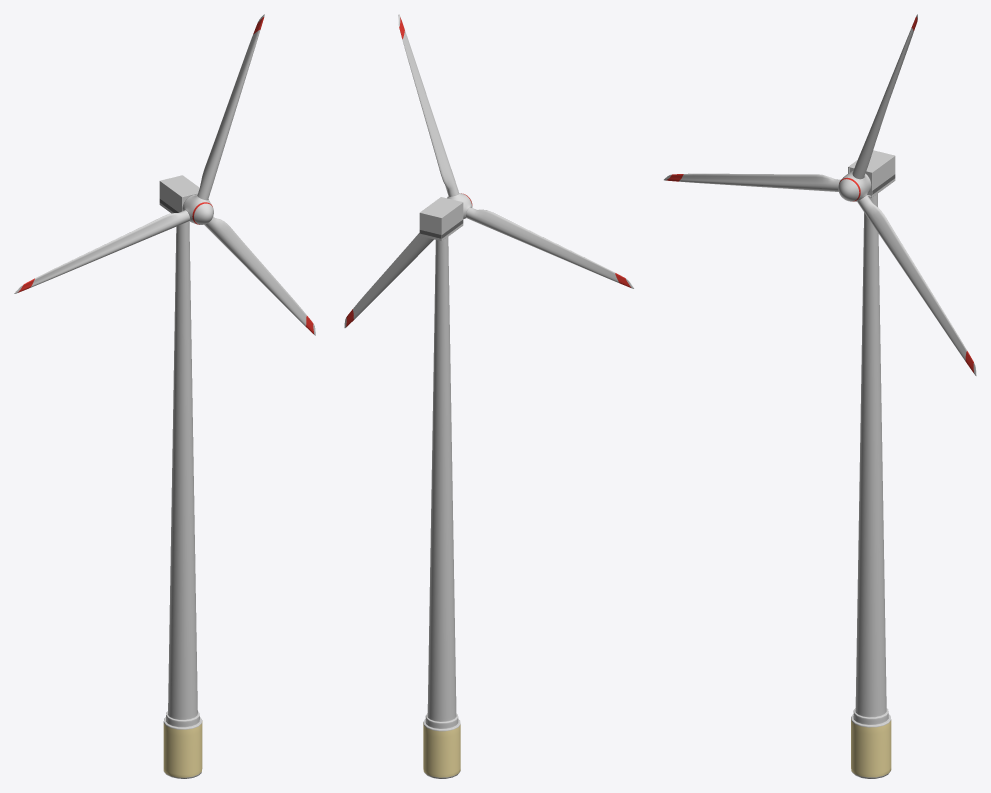
File: wind_turbine.dae
3 renders of one model, left to right at view 1: azimuth 30°, elevation 25°; view 2: azimuth 150°, elevation 25°; view 3: azimuth 330°, elevation 25°, orthographic. The views are drawn at different scales.
Visible parts, largest first — view 1: Cylinder.003, Cylinder.002_Cylinder, Cylinder.001_Cylinder, Cylinder, Cube_Cube.002, Roundcube; view 2: Cylinder.003, Cylinder.002_Cylinder, Cylinder, Cube_Cube.002, Cylinder.001_Cylinder; view 3: Cylinder.003, Cylinder.001_Cylinder, Cylinder.002_Cylinder, Cylinder, Cube_Cube.002, Roundcube.
Part boxes in pixels (box(x1,y1,x2,y2)): Cylinder.003: box(163, 221, 202, 778); Cylinder.002_Cylinder: box(14, 210, 189, 293); Cylinder.001_Cylinder: box(204, 216, 315, 335); Cylinder: box(197, 14, 264, 200); Cube_Cube.002: box(159, 175, 199, 213); Roundcube: box(182, 194, 213, 224); Cylinder.003: box(423, 237, 460, 778); Cylinder.002_Cylinder: box(466, 207, 634, 288); Cylinder: box(398, 14, 459, 196); Cube_Cube.002: box(419, 197, 463, 241); Cylinder.001_Cylinder: box(344, 233, 433, 327); Cylinder.003: box(851, 193, 891, 778); Cylinder.001_Cylinder: box(857, 195, 976, 375); Cylinder.002_Cylinder: box(664, 173, 840, 191); Cylinder: box(852, 14, 917, 179); Cube_Cube.002: box(848, 150, 895, 197); Roundcube: box(838, 171, 871, 201).
Bounding box in the file's own units: 2.42 × 0.5218 × 5.82.
